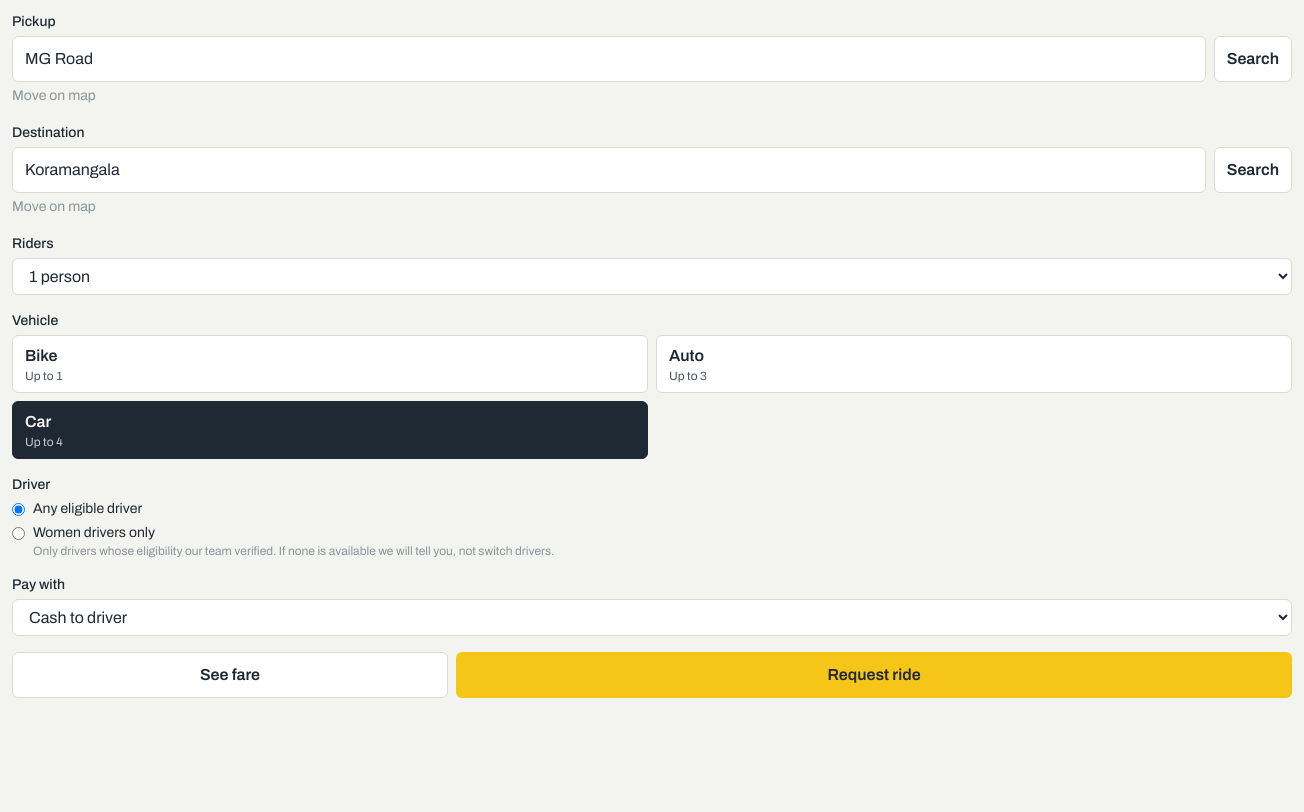
it: #90 booking form › #87 a failed request shows the server message, and a retry reuses the same request key
Click the button "Request ride". click: click(874, 675)
box: top-left (456, 652), bottom-right (1292, 698)
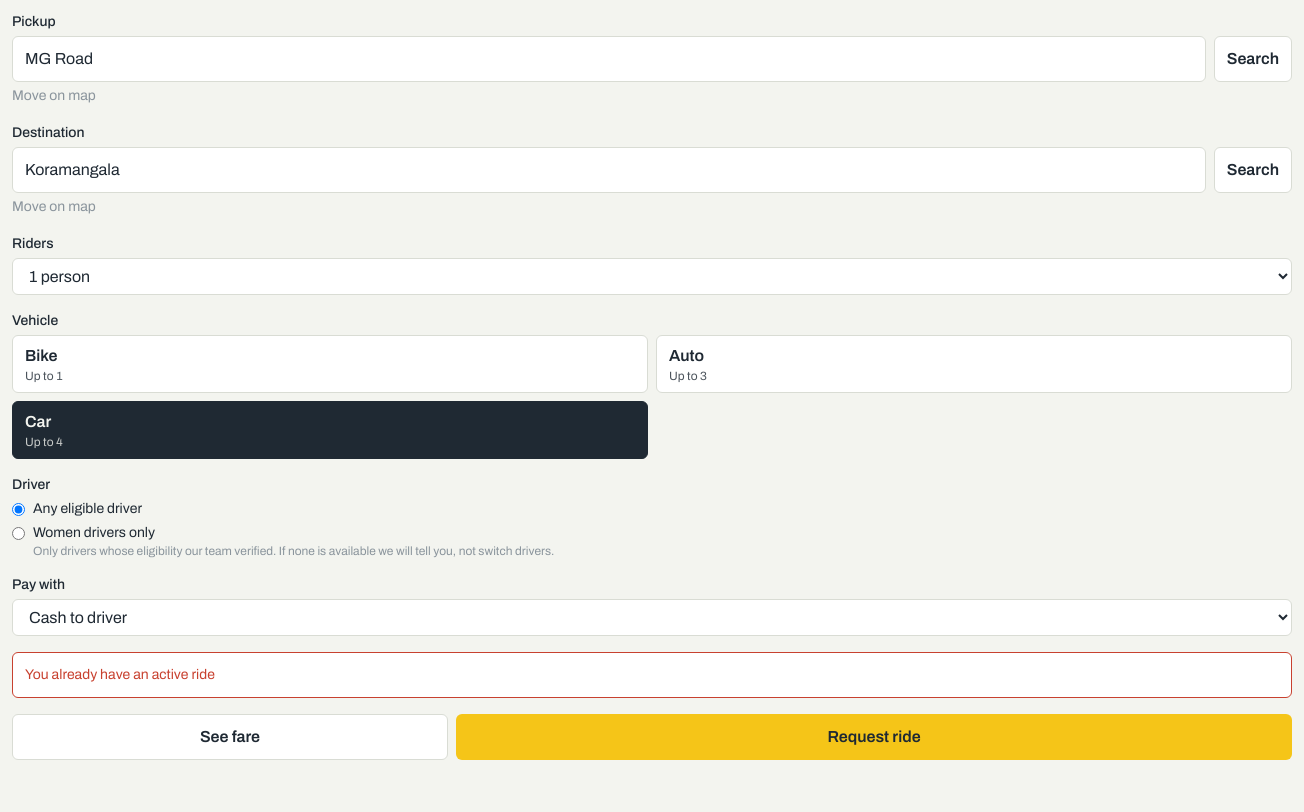
expect the message reads "You already have an active ride": met, box top-left (25, 667), bottom-right (215, 682)
Click the button "Request ride". click: click(874, 737)
box: top-left (456, 714), bottom-right (1292, 760)
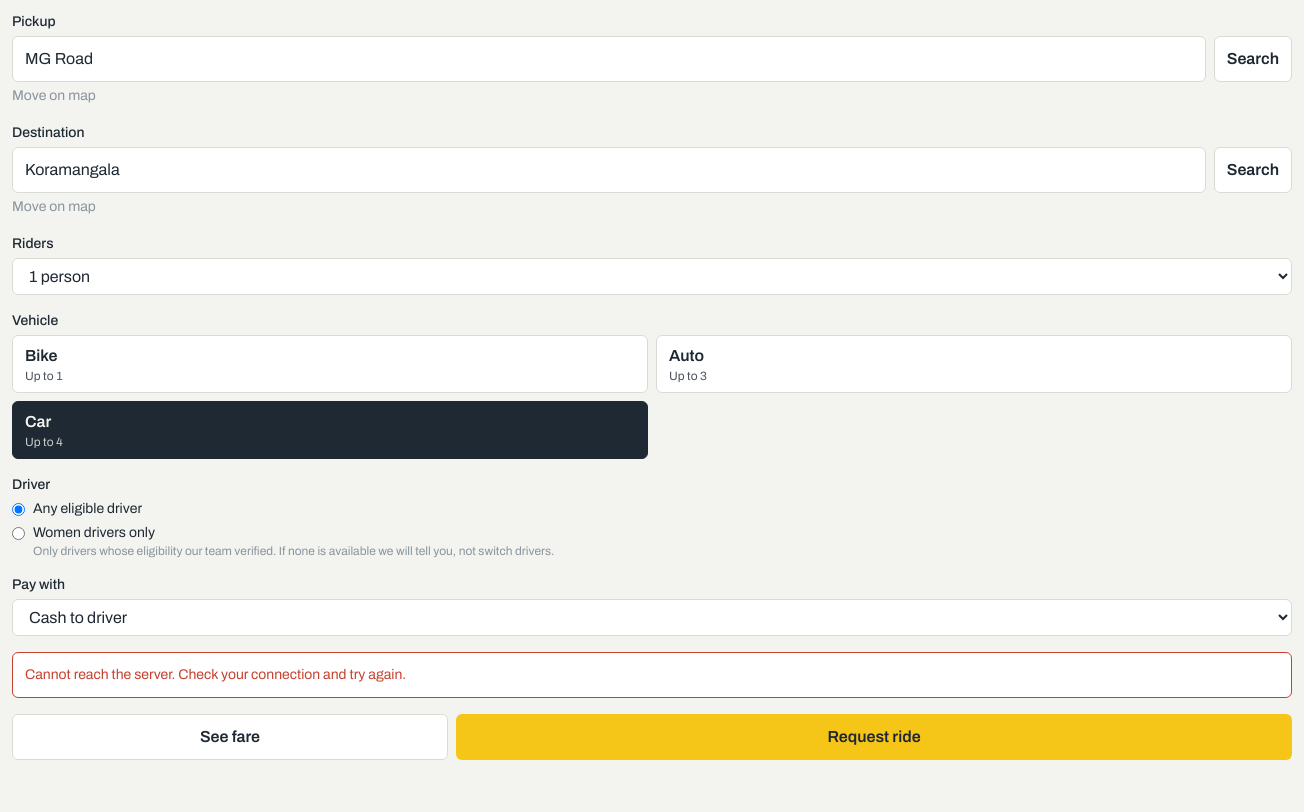
expect the message shows "Cannot reach the server": met, box top-left (25, 667), bottom-right (406, 682)
